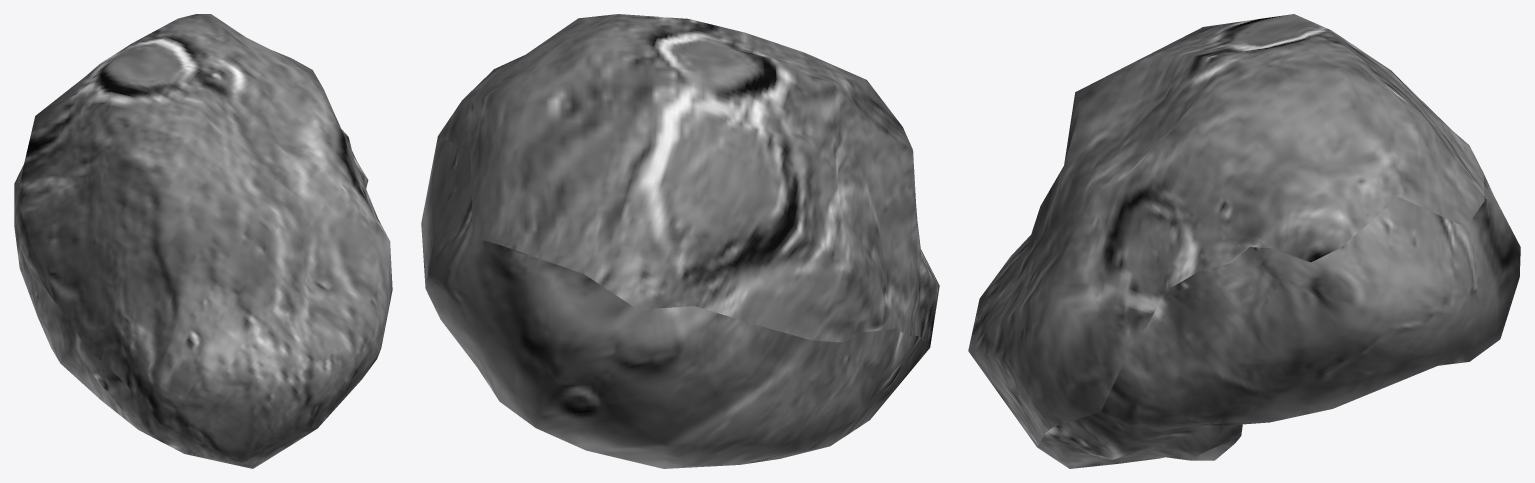
Rendered from meteor2.gltf.
The picture shows the model from 3 angles, left to right: view 1: azimuth 30°, elevation 25°; view 2: azimuth 150°, elevation 25°; view 3: azimuth 270°, elevation 25°; orthographic projection. The views are drawn at different scales.
Visible parts, largest first — view 1: RockLP; view 2: RockLP; view 3: RockLP.
Boxes of the visible parts, bbox=[...] form: RockLP: bbox=[14, 14, 392, 468]; RockLP: bbox=[421, 14, 939, 468]; RockLP: bbox=[968, 14, 1520, 468].
Size of the model in its own units: 4.5 by 4.8 by 5.6.
Materials: 1 (1 with a texture image).
